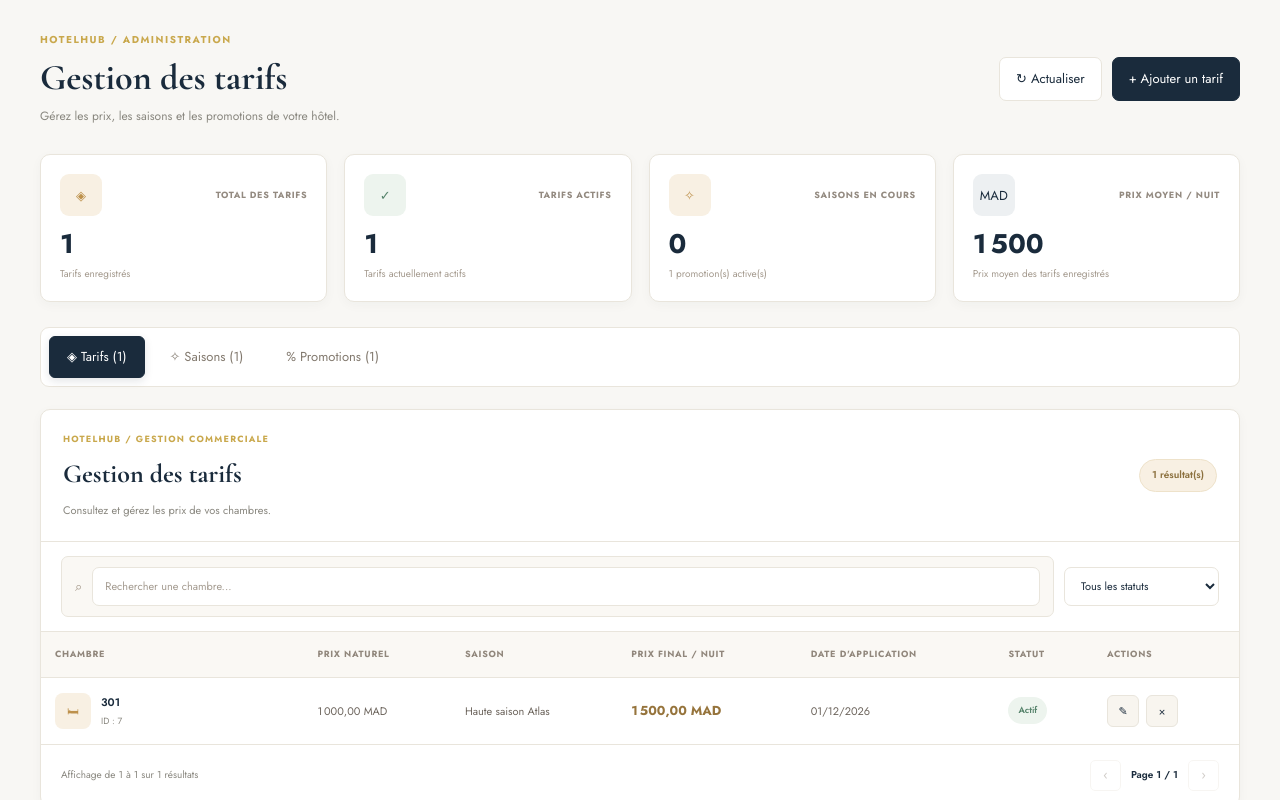
AdminTarifsPage › recherche une saison
expect the table is shown: met, box [41,632,1239,744]
Click the button "✧ Saisons (1)" at point(206, 357), box [152,336,261,378]
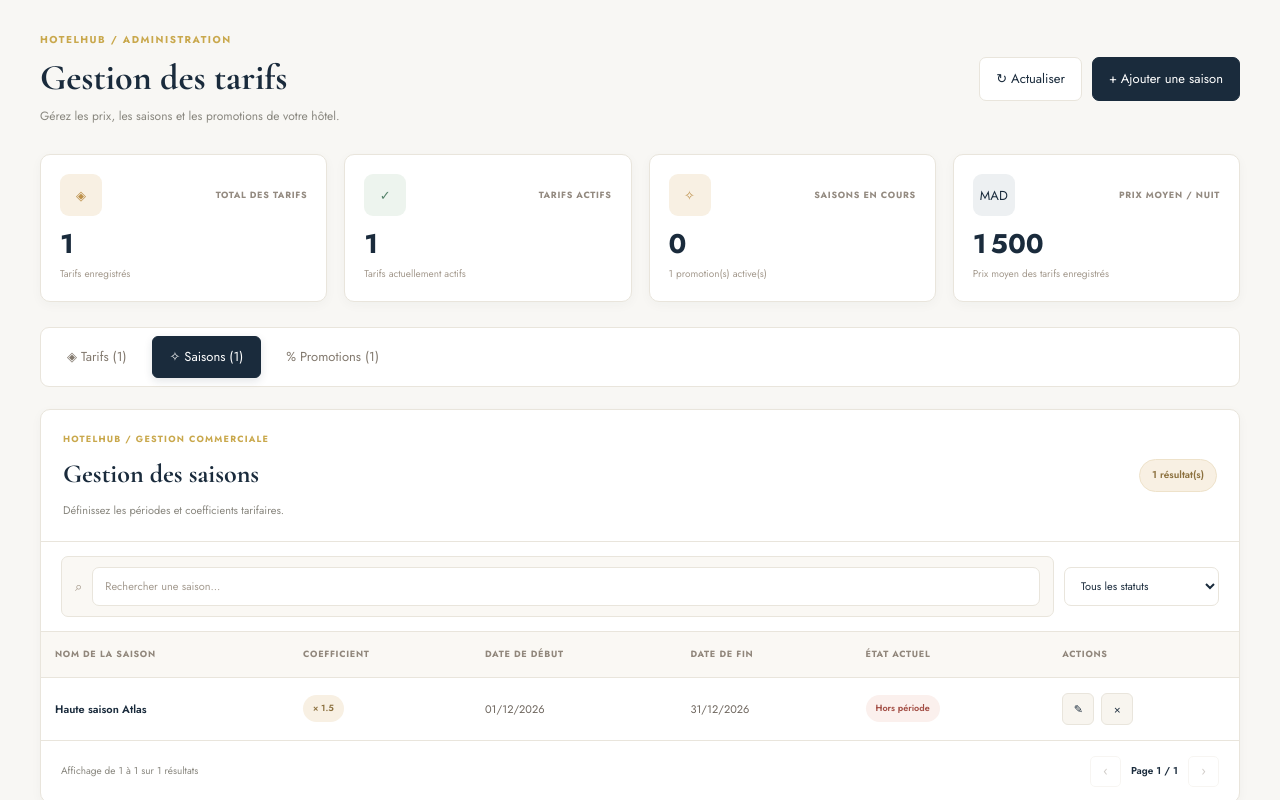
Type "absent" into the search field with placeholder "Rechercher une saison..." at point(566, 586), box [92,567,1040,606]
(page scrolled)
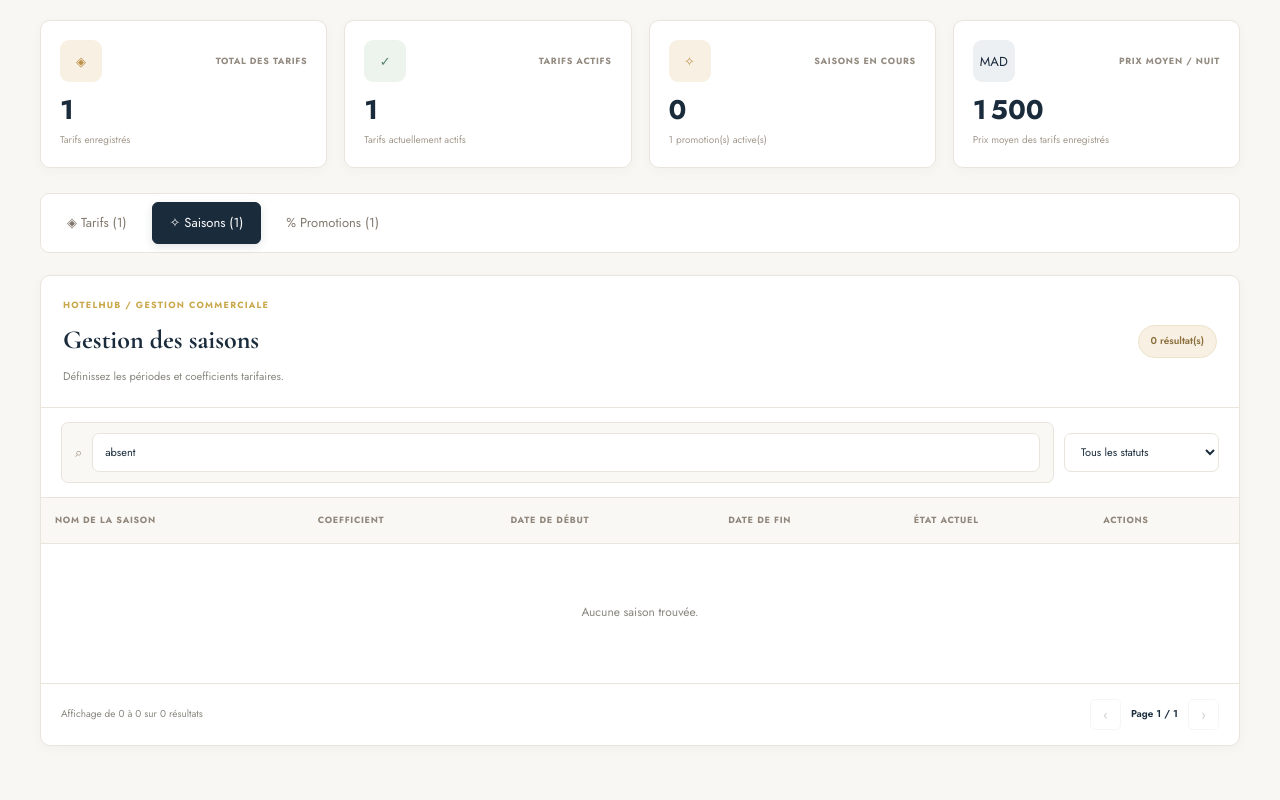
expect the text "Aucune saison trouvée." is shown: met, box [41,543,1239,683]
